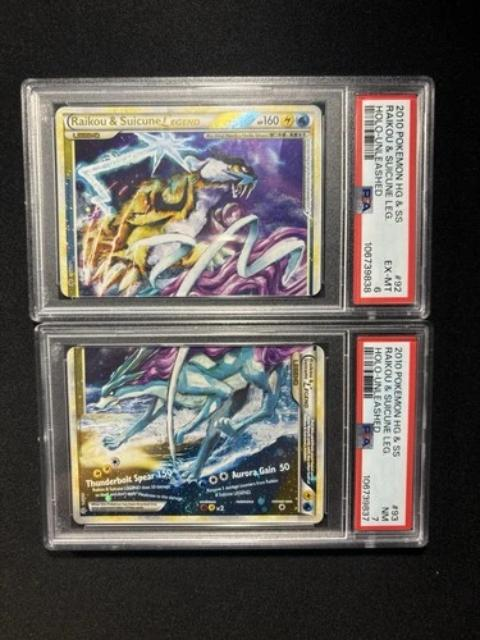Card: (51, 101, 325, 302), (62, 341, 327, 527)
Name: (67, 111, 205, 132), (300, 352, 316, 416)
